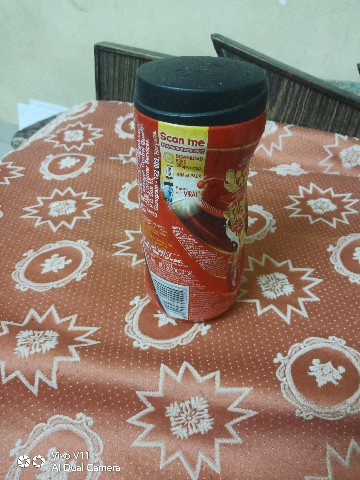boost big: (118, 46, 278, 329)
